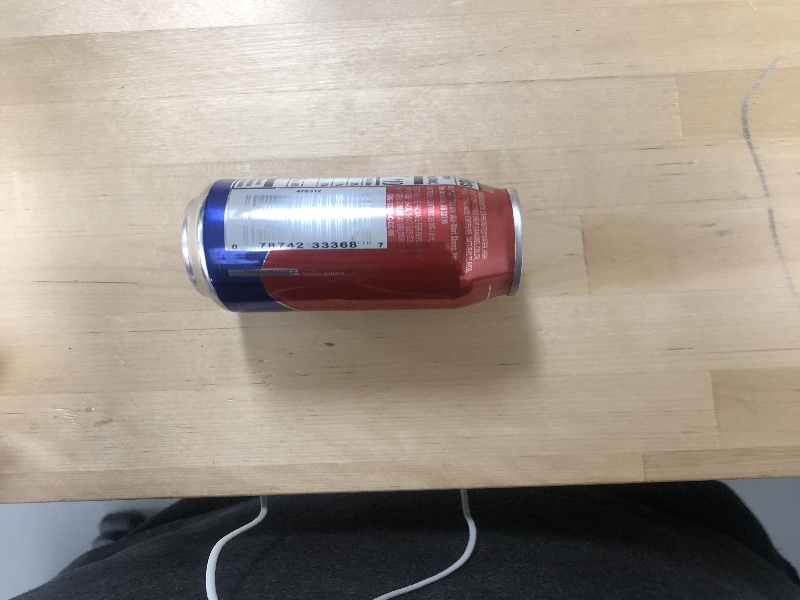metal: (179, 172, 528, 317)
